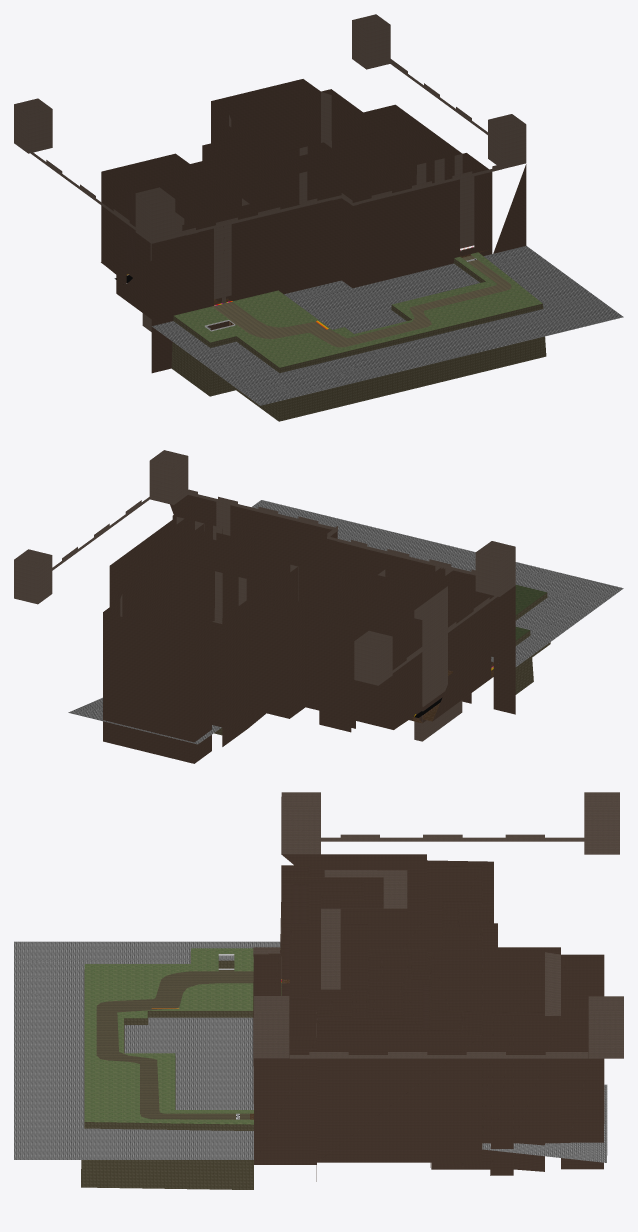
The picture shows the model from 3 angles, top to bottom: view 1: azimuth 30°, elevation 25°; view 2: azimuth 150°, elevation 25°; view 3: azimuth 270°, elevation 25°; orthographic projection. The views are drawn at different scales.
Visible parts, largest first — view 1: polygon4.017, polygon16.014, polygon0.044, polygon17.012, polygon25.005, polygon9.017, polygon22.009; view 2: polygon4.017, polygon0.044, polygon16.014, polygon17.012, polygon25.005; view 3: polygon4.017, polygon16.014, polygon0.044, polygon25.005, polygon17.012, polygon9.017, polygon22.009.
Part boxes in pixels (x1,y1,x2,y2): polygon4.017: [101, 79, 526, 373]; polygon16.014: [152, 246, 623, 405]; polygon0.044: [14, 14, 526, 331]; polygon17.012: [171, 258, 546, 421]; polygon25.005: [174, 252, 542, 367]; polygon9.017: [212, 255, 511, 347]; polygon22.009: [126, 141, 334, 265]; polygon4.017: [103, 495, 515, 763]; polygon0.044: [14, 450, 515, 741]; polygon16.014: [68, 500, 623, 744]; polygon17.012: [214, 592, 550, 735]; polygon25.005: [515, 585, 546, 640]; polygon4.017: [233, 854, 604, 1175]; polygon16.014: [14, 941, 607, 1162]; polygon0.044: [253, 792, 623, 1181]; polygon25.005: [84, 948, 281, 1124]; polygon17.012: [81, 952, 253, 1189]; polygon9.017: [96, 970, 284, 1119]; polygon22.009: [281, 884, 430, 1030].
Size of the model in its own units: 148544 by 65716 by 175300.
18 materials, 18 textured.
